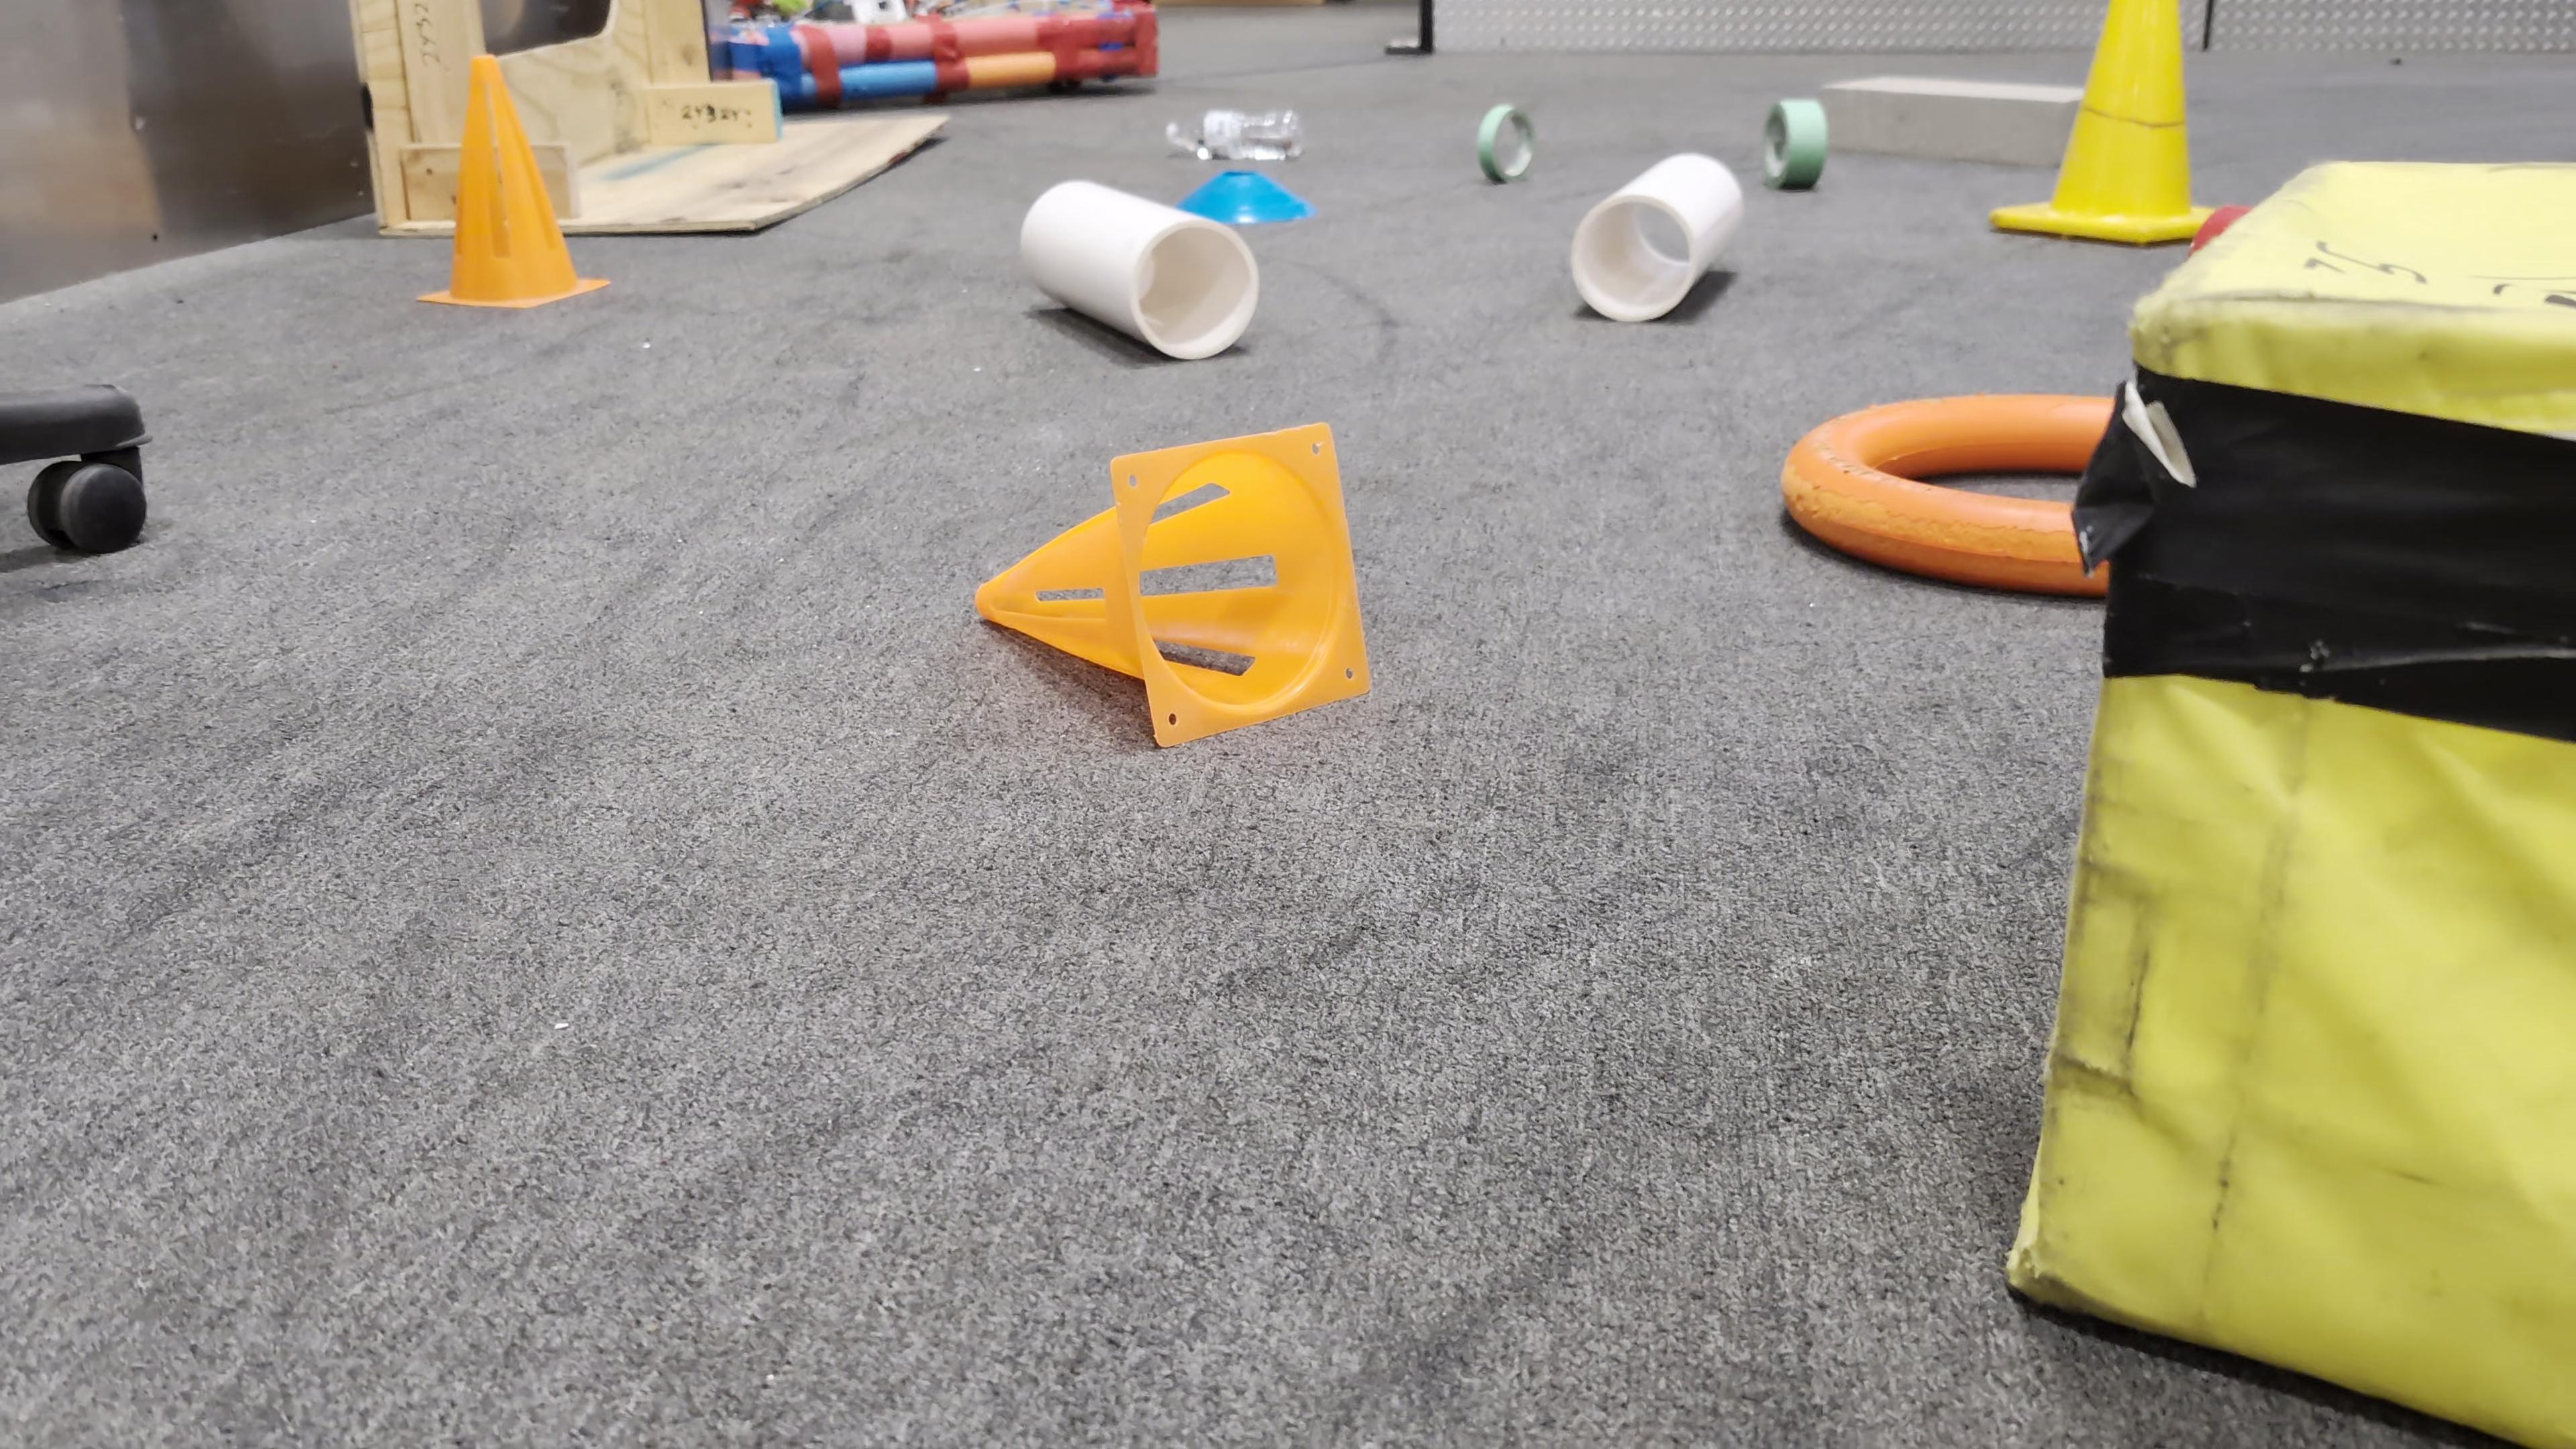coral: (1021, 172, 1263, 357), (1569, 149, 1748, 322)
